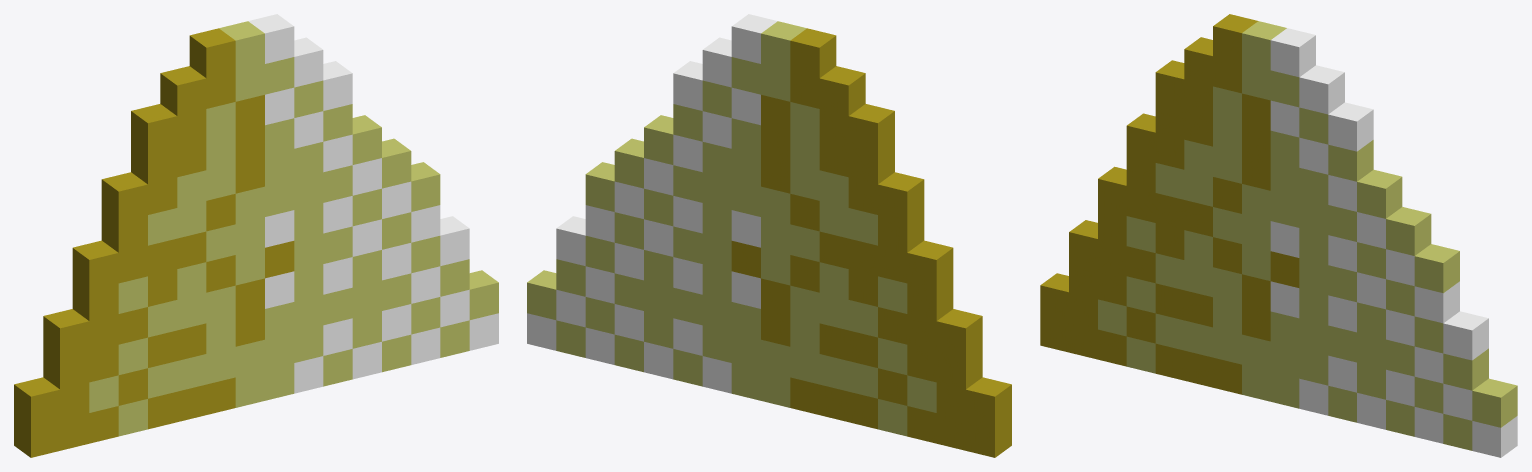
Rendered from Gold1.obj.
3 renders of one model, left to right at view 1: azimuth 30°, elevation 25°; view 2: azimuth 150°, elevation 25°; view 3: azimuth 330°, elevation 25°, orthographic.
Bounding box in the file's own units: 1.6 × 1.2 × 0.1.
Materials: 1 (1 with a texture image).
